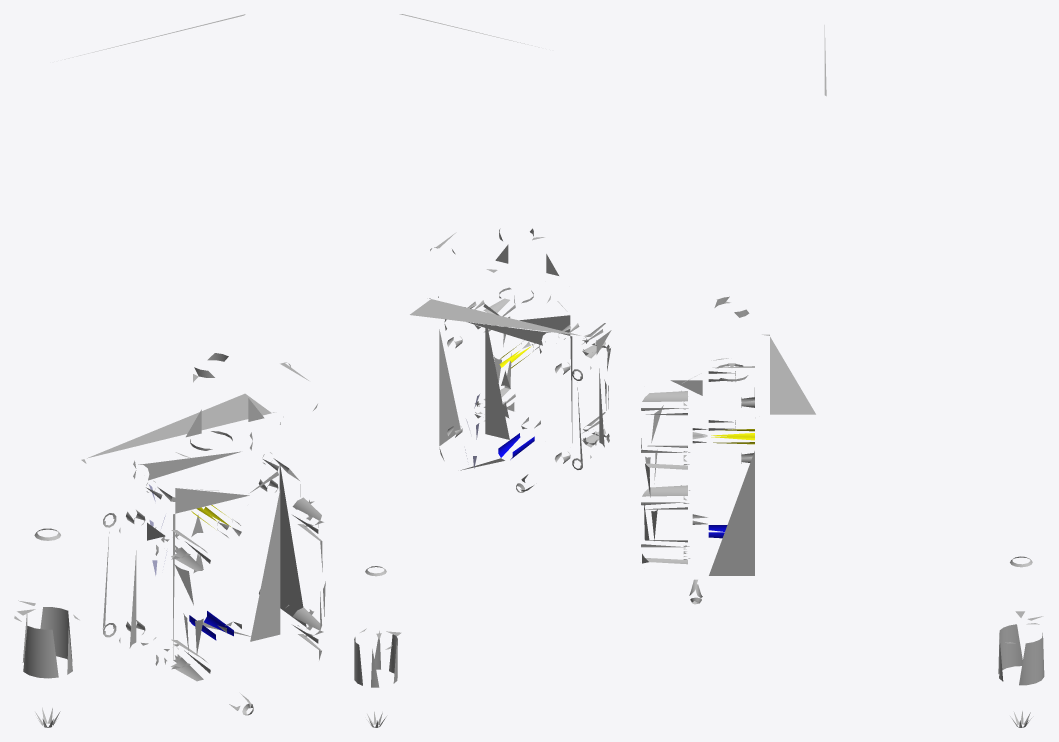
3 renders of one model, left to right at view 1: azimuth 30°, elevation 25°; view 2: azimuth 150°, elevation 25°; view 3: azimuth 270°, elevation 25°, orthographic. The views are drawn at different scales.
Parts seen in each view (by area): view 1: F19721000063102000111_001_zb_ub_stiftzieher_11_ba; view 2: F19721000063102000111_001_zb_ub_stiftzieher_11_ba; view 3: F19721000063102000111_001_zb_ub_stiftzieher_11_ba.
Boxes of the visible parts, x1,y1,x2,y2 form: F19721000063102000111_001_zb_ub_stiftzieher_11_ba: (14,14,325,727); F19721000063102000111_001_zb_ub_stiftzieher_11_ba: (354,14,611,727); F19721000063102000111_001_zb_ub_stiftzieher_11_ba: (640,25,1044,727).
Size of the model in its own units: 86.5 by 174 by 317.
